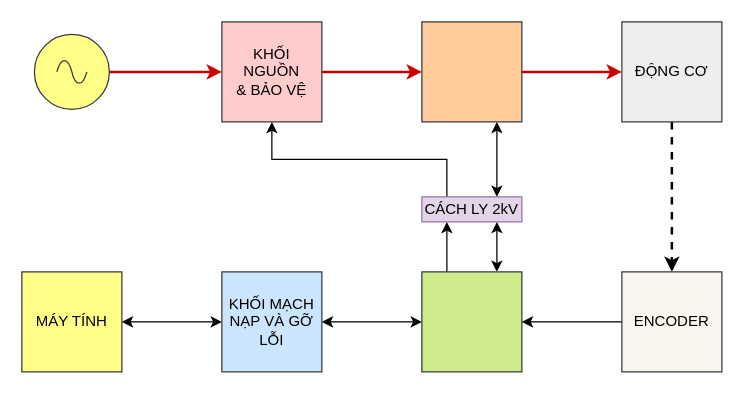
This 744x394 diagram has some shape labels left out. Each missing label, with the box of its shape:
220VAC (1-Pha): (33, 33, 109, 109)
KHỐI CÔNG SUẤT & ĐO NĂNG LƯỢNG: (421, 21, 522, 122)
KHỐI VI ĐIỀU KHIỂN: (421, 271, 522, 372)
